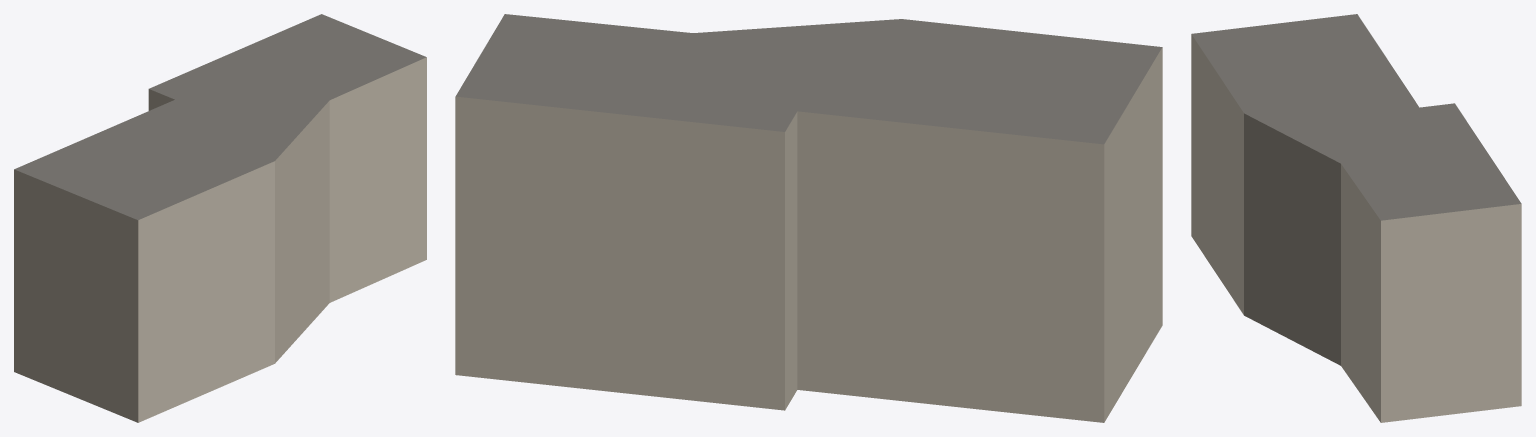
The picture shows the model from 3 angles, left to right: view 1: azimuth 30°, elevation 25°; view 2: azimuth 150°, elevation 25°; view 3: azimuth 270°, elevation 25°; orthographic projection. The views are drawn at different scales.
Visible parts, largest first — view 1: HP-w299010099; view 2: HP-w299010099; view 3: HP-w299010099.
Part boxes in pixels (x1,y1,x2,y2): HP-w299010099: [14, 14, 426, 422]; HP-w299010099: [455, 14, 1162, 422]; HP-w299010099: [1191, 14, 1521, 422].
Size of the model in its own units: 39.45 by 18 by 26.64.
